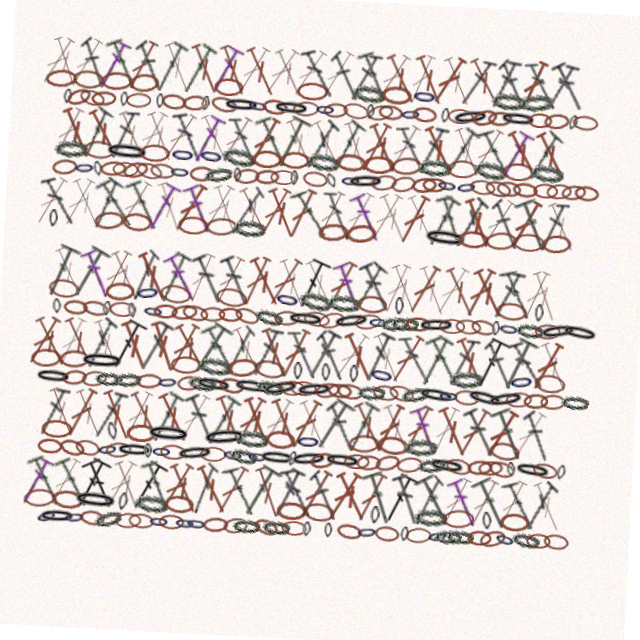chain: (418, 221, 464, 243), (208, 431, 254, 453), (82, 501, 128, 522), (96, 152, 141, 172), (265, 379, 304, 401), (469, 379, 508, 401), (490, 379, 529, 401), (152, 432, 197, 451), (332, 309, 371, 330), (539, 309, 578, 330), (82, 363, 127, 381), (213, 150, 248, 173), (297, 290, 332, 313), (507, 81, 542, 103), (465, 151, 500, 173), (441, 100, 479, 120), (561, 310, 599, 330), (214, 291, 247, 313), (256, 361, 289, 383), (421, 380, 459, 399), (183, 450, 221, 469), (297, 450, 335, 469), (435, 450, 473, 469), (521, 450, 559, 469), (340, 81, 374, 102), (200, 361, 234, 382), (103, 518, 134, 541), (495, 431, 527, 453), (158, 291, 191, 312), (198, 381, 236, 399), (236, 381, 274, 399), (299, 381, 337, 399), (298, 152, 332, 172), (522, 152, 556, 172), (452, 362, 486, 382), (410, 432, 444, 452), (144, 502, 178, 522), (47, 291, 79, 312), (229, 361, 261, 382), (383, 431, 415, 452), (89, 221, 120, 242), (341, 221, 372, 242), (54, 98, 82, 121), (33, 82, 65, 102), (383, 152, 415, 172), (201, 222, 233, 242), (481, 222, 513, 242), (495, 292, 527, 312), (537, 362, 569, 382), (33, 502, 65, 522), (61, 502, 93, 522), (313, 502, 345, 522), (317, 309, 346, 331), (404, 379, 434, 400), (489, 101, 526, 118), (340, 171, 377, 188), (418, 311, 455, 328), (331, 451, 368, 468), (46, 152, 79, 171), (424, 502, 457, 521), (117, 82, 148, 102), (313, 222, 344, 242), (537, 222, 568, 242), (233, 309, 261, 331), (263, 519, 291, 541), (489, 519, 518, 540), (196, 170, 226, 190), (254, 310, 284, 330), (480, 83, 513, 101), (410, 153, 443, 171), (228, 223, 261, 241), (326, 293, 359, 311), (371, 361, 398, 383), (242, 433, 275, 451), (262, 102, 299, 118), (287, 312, 324, 328), (38, 382, 75, 398), (266, 452, 303, 468), (61, 82, 92, 101), (89, 82, 120, 101), (75, 152, 106, 171), (327, 152, 358, 171), (117, 222, 148, 241), (33, 362, 64, 381), (355, 432, 386, 451), (453, 502, 484, 521), (460, 99, 488, 120), (114, 169, 142, 190), (391, 379, 419, 400), (381, 449, 409, 470), (370, 82, 400, 101), (104, 292, 134, 311), (62, 362, 92, 381), (272, 432, 302, 451), (424, 450, 454, 469), (174, 502, 204, 521), (522, 520, 552, 539), (133, 291, 160, 312), (273, 291, 300, 312), (511, 361, 538, 382), (67, 100, 95, 120), (199, 100, 227, 120), (356, 100, 384, 120), (128, 170, 156, 190), (477, 170, 505, 190), (65, 450, 93, 470), (495, 450, 523, 470), (285, 83, 316, 101), (131, 153, 162, 171), (355, 153, 386, 171), (439, 153, 470, 171), (495, 153, 526, 171), (173, 223, 204, 241), (453, 223, 484, 241), (509, 223, 540, 241), (173, 363, 204, 381), (47, 433, 78, 451), (212, 102, 249, 117), (123, 452, 160, 467), (49, 522, 86, 537), (202, 83, 232, 101), (244, 153, 274, 171), (272, 153, 302, 171), (383, 170, 410, 190), (356, 293, 386, 311), (318, 380, 345, 400), (132, 433, 162, 451), (316, 450, 343, 470), (286, 503, 316, 521), (510, 503, 540, 521), (331, 100, 359, 119), (363, 170, 391, 189), (170, 310, 198, 329), (181, 310, 209, 329), (354, 310, 382, 329), (452, 450, 480, 469), (380, 311, 409, 329), (259, 381, 288, 399), (236, 451, 265, 469), (190, 152, 216, 172), (470, 310, 497, 329), (81, 450, 108, 469), (539, 450, 566, 469), (233, 520, 260, 539), (81, 311, 109, 329), (403, 451, 431, 469), (400, 82, 426, 101), (116, 381, 145, 398), (191, 381, 220, 398), (84, 381, 111, 399), (340, 381, 367, 399), (45, 520, 69, 540), (504, 520, 528, 540), (44, 171, 70, 189), (227, 171, 253, 189), (404, 171, 430, 189), (554, 171, 580, 189), (65, 381, 91, 399), (180, 381, 206, 399), (222, 381, 248, 399), (347, 521, 373, 539), (92, 171, 119, 188), (462, 171, 489, 188), (303, 311, 330, 328), (455, 311, 482, 328), (376, 381, 403, 398), (509, 381, 536, 398), (162, 153, 187, 171), (302, 433, 327, 451), (516, 312, 544, 328), (361, 382, 389, 398), (445, 522, 473, 538), (150, 101, 176, 118), (171, 101, 197, 118), (251, 101, 277, 118), (367, 101, 393, 118), (401, 101, 427, 118), (533, 101, 559, 118), (142, 171, 168, 188), (295, 171, 321, 188), (489, 171, 515, 188), (539, 171, 565, 188), (474, 451, 500, 468), (485, 451, 511, 468), (90, 521, 116, 538), (554, 521, 580, 538), (112, 452, 139, 468), (125, 522, 152, 538), (416, 522, 443, 538), (391, 312, 419, 327), (98, 382, 126, 397), (565, 382, 593, 397), (243, 522, 271, 537), (273, 522, 301, 537), (457, 522, 485, 537), (282, 102, 308, 118), (312, 102, 338, 118), (562, 102, 588, 118), (247, 172, 273, 188), (505, 172, 531, 188), (567, 172, 593, 188), (274, 312, 300, 328), (535, 312, 561, 328), (139, 382, 165, 398), (363, 452, 389, 468), (139, 522, 165, 538), (213, 522, 239, 538), (385, 522, 411, 538), (448, 171, 471, 189), (103, 451, 126, 469), (437, 521, 460, 539), (80, 102, 105, 118), (115, 102, 140, 118), (477, 102, 502, 118), (182, 172, 207, 188), (63, 312, 88, 328), (200, 312, 225, 328), (331, 382, 356, 398), (458, 382, 483, 398), (527, 382, 552, 398), (544, 382, 569, 398), (437, 102, 463, 117), (105, 172, 131, 187), (263, 172, 289, 187), (109, 312, 135, 327), (439, 312, 465, 327), (283, 382, 309, 397), (294, 382, 320, 397), (167, 452, 193, 467), (207, 452, 233, 467), (351, 452, 377, 467), (169, 522, 195, 537), (292, 522, 318, 537), (517, 102, 542, 117), (415, 172, 440, 187), (526, 172, 551, 187), (153, 312, 178, 327), (218, 312, 243, 327), (406, 312, 431, 327), (44, 452, 69, 467), (478, 522, 503, 537), (537, 522, 562, 537), (236, 101, 258, 118), (429, 171, 451, 188), (498, 311, 520, 328), (229, 451, 251, 468), (74, 521, 96, 538), (367, 521, 389, 538), (389, 102, 411, 118), (66, 172, 88, 188), (142, 312, 164, 328), (160, 382, 182, 398), (196, 522, 218, 538), (254, 452, 275, 468), (185, 522, 206, 538), (304, 102, 325, 117), (162, 172, 183, 187), (333, 172, 354, 187), (368, 312, 389, 327), (442, 382, 463, 397), (158, 452, 179, 467), (159, 522, 180, 537), (112, 432, 125, 451), (127, 502, 138, 521), (318, 172, 331, 188), (380, 503, 390, 521), (492, 503, 502, 521), (557, 102, 568, 118), (85, 172, 96, 188), (294, 452, 305, 468), (563, 452, 574, 468), (44, 223, 53, 241), (394, 293, 403, 311), (534, 293, 543, 311), (296, 363, 305, 381), (324, 363, 333, 381), (352, 363, 361, 381), (127, 312, 137, 328), (52, 102, 61, 117), (190, 102, 199, 117), (355, 102, 364, 117), (430, 102, 439, 117), (52, 312, 61, 327), (102, 312, 111, 327), (514, 452, 523, 467), (313, 522, 322, 537), (411, 522, 420, 537), (109, 102, 117, 117), (145, 102, 153, 117), (226, 172, 234, 187), (283, 172, 291, 187), (492, 312, 500, 327), (151, 452, 159, 467), (335, 522, 343, 537)
double: (190, 327, 235, 383), (316, 397, 361, 453), (422, 467, 467, 523), (65, 257, 109, 313), (247, 467, 291, 523), (479, 467, 523, 523), (135, 467, 178, 523), (108, 327, 150, 383), (494, 397, 536, 453), (88, 467, 130, 523), (87, 188, 131, 241), (283, 188, 327, 241), (262, 117, 303, 173), (508, 187, 549, 243), (500, 327, 541, 383), (80, 467, 121, 523), (388, 467, 429, 523), (430, 118, 472, 172), (514, 118, 556, 172), (39, 257, 79, 313), (473, 327, 513, 383), (24, 48, 65, 102), (164, 48, 205, 102), (466, 118, 507, 172), (228, 188, 269, 242), (32, 328, 73, 382), (200, 328, 241, 382), (424, 328, 465, 382), (206, 398, 247, 452), (514, 398, 555, 452), (60, 468, 101, 522), (33, 467, 73, 522), (291, 257, 330, 313), (332, 329, 374, 381), (369, 467, 408, 523), (248, 48, 289, 101), (276, 48, 317, 101), (360, 48, 401, 101), (416, 48, 457, 101), (150, 118, 191, 171), (494, 118, 535, 171), (472, 188, 513, 241), (172, 328, 213, 381), (53, 48, 93, 102), (375, 118, 415, 172), (523, 118, 563, 172), (25, 188, 65, 242), (347, 258, 387, 312), (467, 258, 507, 312), (25, 328, 65, 382), (229, 328, 269, 382), (389, 328, 429, 382), (159, 398, 199, 452), (459, 398, 499, 452), (487, 398, 527, 452), (229, 468, 269, 522), (509, 468, 549, 522), (137, 47, 176, 102), (243, 117, 282, 172), (319, 117, 358, 172), (117, 187, 156, 242), (417, 187, 456, 242), (417, 327, 456, 382), (151, 397, 190, 452), (347, 397, 386, 452), (453, 48, 493, 101), (537, 48, 577, 101), (75, 118, 115, 171), (109, 188, 149, 241), (159, 258, 199, 311), (243, 258, 283, 311), (263, 258, 303, 311), (131, 398, 171, 451), (165, 468, 205, 521), (201, 468, 241, 521), (333, 468, 373, 521), (229, 48, 268, 102), (257, 48, 296, 102), (123, 118, 162, 172), (53, 188, 92, 242), (369, 188, 408, 242), (263, 398, 302, 452), (439, 398, 478, 452), (90, 47, 128, 102), (152, 257, 190, 312), (496, 257, 534, 312), (291, 119, 331, 171), (221, 48, 260, 101), (305, 48, 344, 101), (187, 118, 226, 171), (207, 118, 246, 171), (299, 118, 338, 171), (411, 118, 450, 171), (459, 118, 498, 171), (165, 188, 204, 241), (193, 188, 232, 241), (361, 188, 400, 241), (397, 188, 436, 241), (501, 188, 540, 241), (299, 258, 338, 311), (355, 258, 394, 311), (403, 258, 442, 311), (431, 258, 470, 311), (355, 398, 394, 451), (467, 398, 506, 451), (305, 468, 344, 521), (341, 468, 380, 521), (110, 48, 148, 102), (194, 48, 232, 102), (370, 48, 408, 102), (426, 48, 464, 102), (40, 118, 78, 172), (48, 118, 86, 172), (104, 118, 142, 172), (236, 118, 274, 172), (272, 118, 310, 172), (488, 118, 526, 172), (62, 188, 100, 242), (138, 188, 176, 242), (250, 188, 288, 242), (334, 188, 372, 242), (342, 188, 380, 242), (48, 258, 86, 312), (104, 258, 142, 312), (132, 258, 170, 312), (188, 258, 226, 312), (208, 258, 246, 312), (320, 258, 358, 312), (440, 258, 478, 312), (138, 328, 176, 382), (166, 328, 204, 382), (306, 328, 344, 382), (342, 328, 380, 382), (370, 328, 408, 382), (454, 328, 492, 382), (530, 328, 568, 382), (180, 398, 218, 452), (188, 398, 226, 452), (216, 398, 254, 452), (236, 398, 274, 452), (292, 398, 330, 452), (300, 398, 338, 452), (54, 468, 92, 522), (110, 468, 148, 522), (222, 468, 260, 522), (342, 47, 379, 102), (68, 117, 105, 172), (82, 187, 119, 242), (445, 189, 484, 241), (509, 329, 548, 381), (529, 469, 568, 521), (62, 328, 100, 381), (82, 48, 119, 102), (174, 48, 211, 102), (202, 48, 239, 102), (180, 118, 217, 172), (348, 118, 385, 172), (356, 118, 393, 172), (258, 188, 295, 242), (390, 188, 427, 242), (538, 188, 575, 242), (76, 258, 113, 312), (96, 258, 133, 312), (216, 258, 253, 312), (460, 258, 497, 312), (118, 328, 155, 382), (538, 328, 575, 382), (68, 398, 105, 452), (76, 398, 113, 452), (104, 398, 141, 452), (244, 398, 281, 452), (272, 398, 309, 452), (384, 398, 421, 452), (26, 468, 63, 522), (118, 468, 155, 522), (174, 468, 211, 522), (362, 468, 399, 522), (454, 468, 491, 522), (474, 468, 511, 522), (538, 468, 575, 522), (147, 467, 183, 522), (147, 48, 183, 102), (399, 48, 435, 102), (503, 48, 539, 102), (133, 118, 169, 172), (441, 118, 477, 172), (175, 188, 211, 242), (307, 188, 343, 242), (455, 188, 491, 242), (273, 258, 309, 312), (385, 258, 421, 312), (413, 258, 449, 312), (55, 328, 91, 382), (91, 328, 127, 382), (259, 328, 295, 382), (279, 328, 315, 382), (49, 398, 85, 452), (125, 398, 161, 452), (377, 398, 413, 452), (405, 398, 441, 452), (259, 468, 295, 522), (279, 468, 315, 522), (447, 468, 483, 522), (503, 468, 539, 522), (446, 49, 484, 100), (147, 327, 182, 382), (34, 189, 71, 241), (287, 48, 323, 101), (83, 328, 119, 381), (287, 468, 323, 521), (222, 190, 260, 240), (147, 188, 182, 242), (203, 188, 238, 242), (279, 188, 314, 242), (237, 258, 272, 312), (329, 258, 364, 312), (517, 258, 552, 312), (363, 328, 398, 382), (413, 398, 448, 452), (433, 398, 468, 452), (399, 468, 434, 522), (315, 49, 351, 101), (531, 49, 567, 101), (483, 329, 519, 381), (97, 399, 133, 451), (315, 469, 351, 521), (182, 257, 216, 312), (36, 48, 70, 102), (392, 48, 426, 102), (511, 49, 547, 100), (330, 118, 364, 172), (378, 258, 412, 312), (526, 258, 560, 312), (399, 329, 435, 380), (335, 49, 370, 101), (483, 49, 518, 101), (483, 189, 518, 241), (489, 259, 524, 311), (315, 329, 350, 381), (329, 399, 364, 451), (428, 187, 461, 242), (120, 48, 154, 101), (406, 118, 440, 171), (448, 328, 482, 381), (386, 119, 420, 171), (224, 329, 258, 381), (420, 469, 454, 521), (476, 48, 509, 101), (162, 118, 195, 171), (252, 328, 285, 381), (42, 398, 75, 451), (526, 398, 559, 451), (218, 119, 251, 171), (288, 329, 321, 381), (65, 48, 97, 101), (99, 118, 130, 171), (317, 188, 348, 241), (533, 188, 564, 241), (127, 258, 158, 311), (198, 468, 228, 521)
